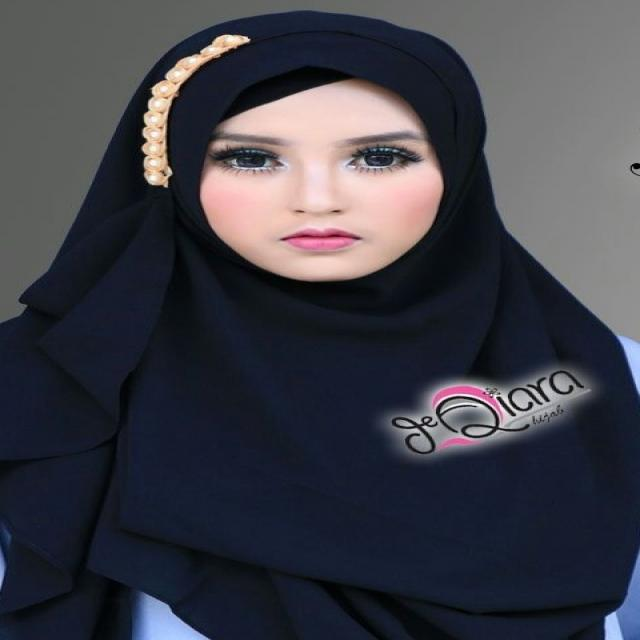head: (139, 10, 489, 291)
